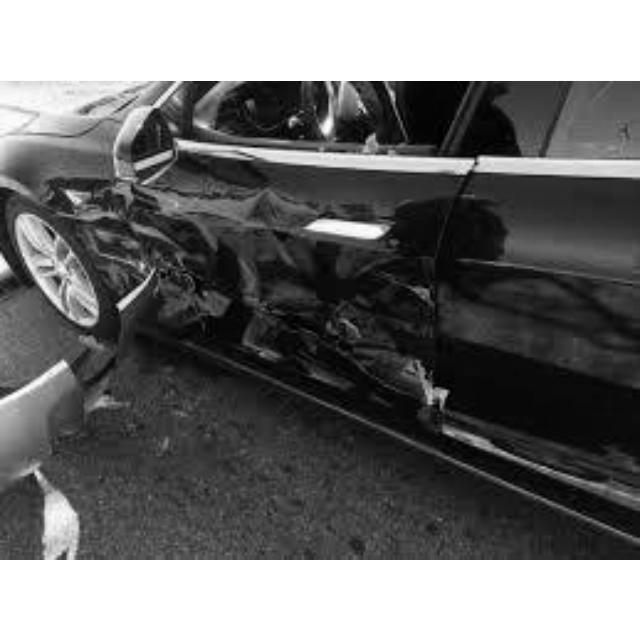doorouter-dent: (134, 137, 452, 416)
fender-dent: (18, 143, 129, 278)
